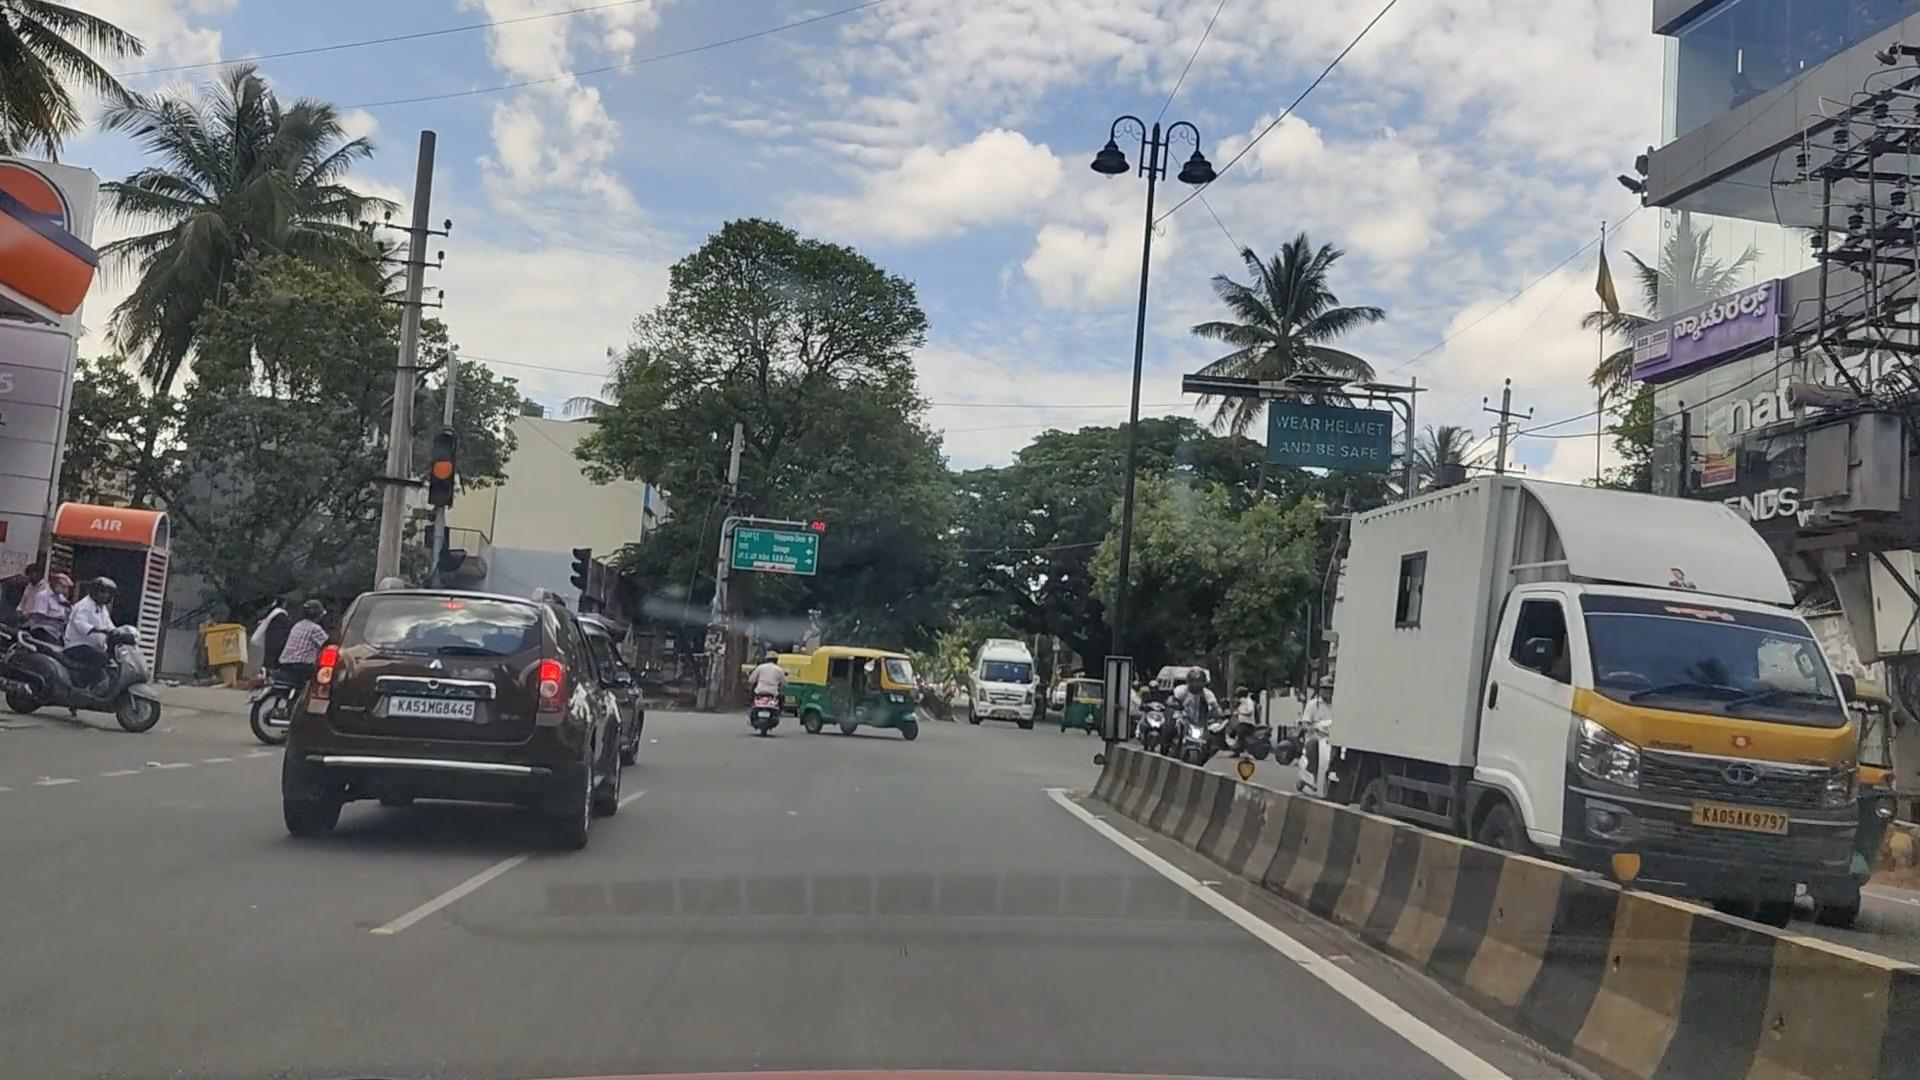LMV: (265, 600, 649, 868)
